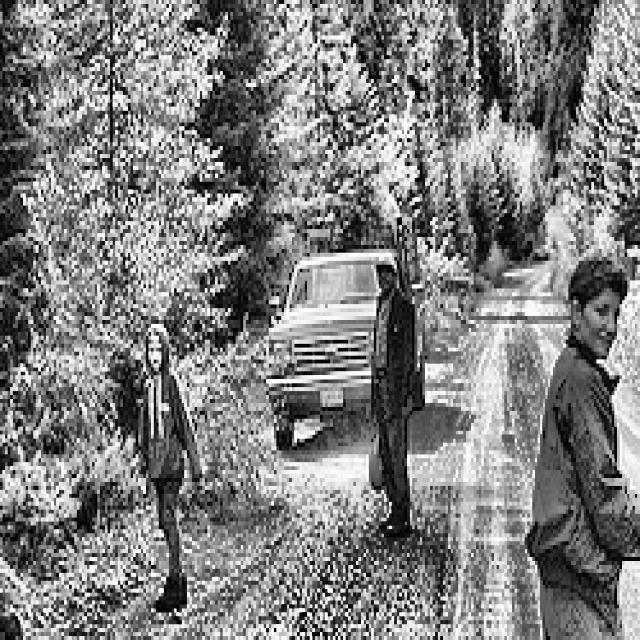light_vehicle: (259, 241, 430, 454)
